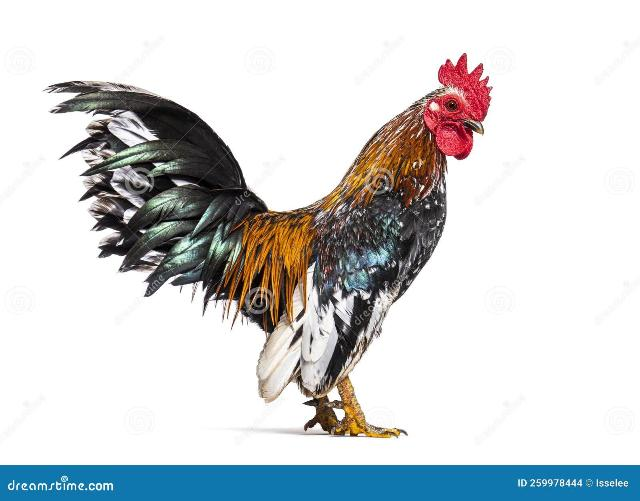Chicken: (45, 50, 493, 438)
